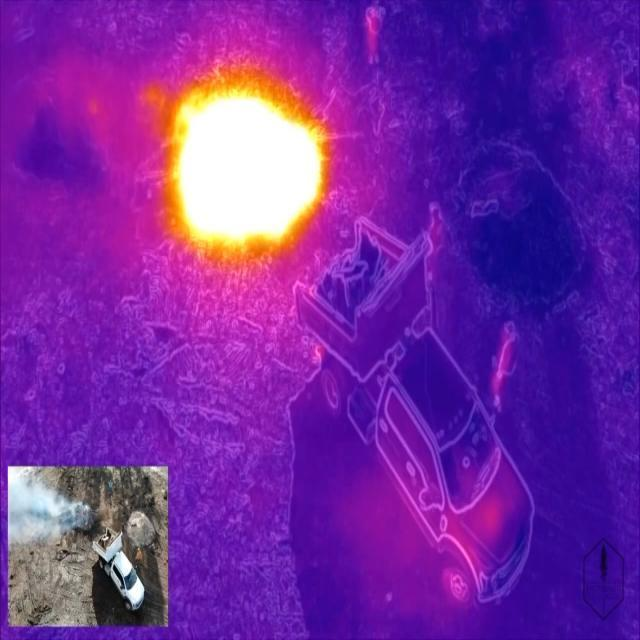fire: (163, 68, 334, 266)
